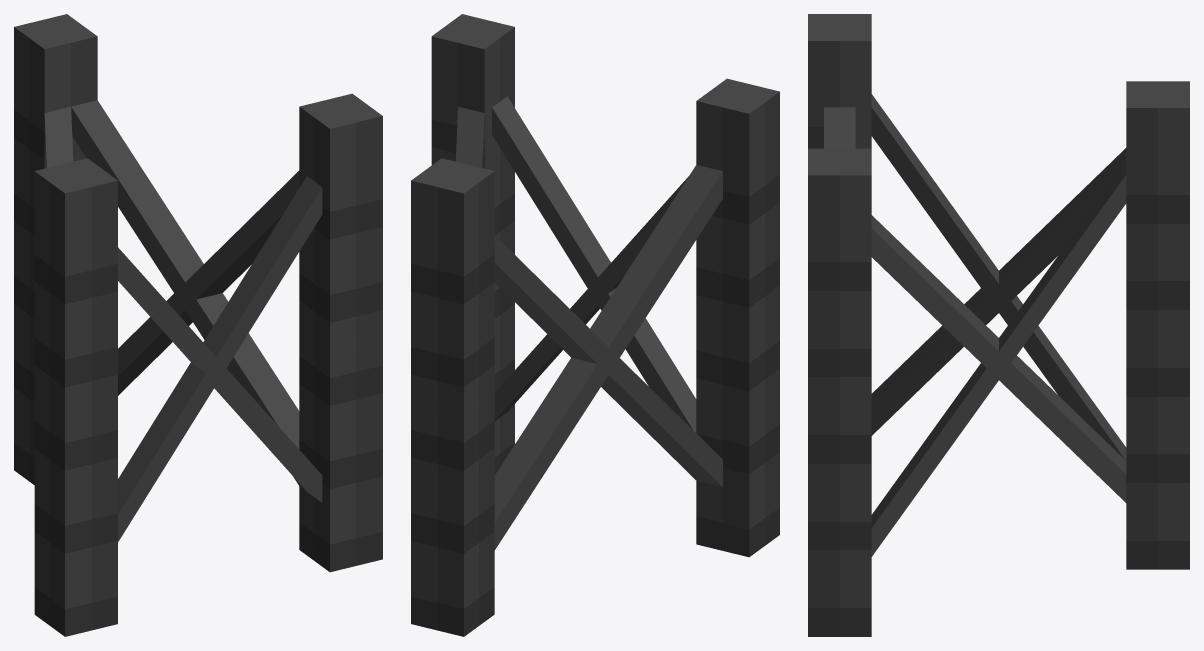
Rendered from steel_pole.obj.
3 views of the same model, side by side, from view 1: azimuth 30°, elevation 25°; view 2: azimuth 150°, elevation 25°; view 3: azimuth 270°, elevation 25° (orthographic). The views are drawn at different scales.
Visible parts, largest first — view 1: Cube_Cube.001; view 2: Cube_Cube.001; view 3: Cube_Cube.001.
Boxes of the visible parts, x1,y1,x2,y2 form: Cube_Cube.001: (14,14,382,636); Cube_Cube.001: (411,14,779,636); Cube_Cube.001: (808,14,1189,636).
Size of the model in its own units: 0.75 by 1 by 0.75.
